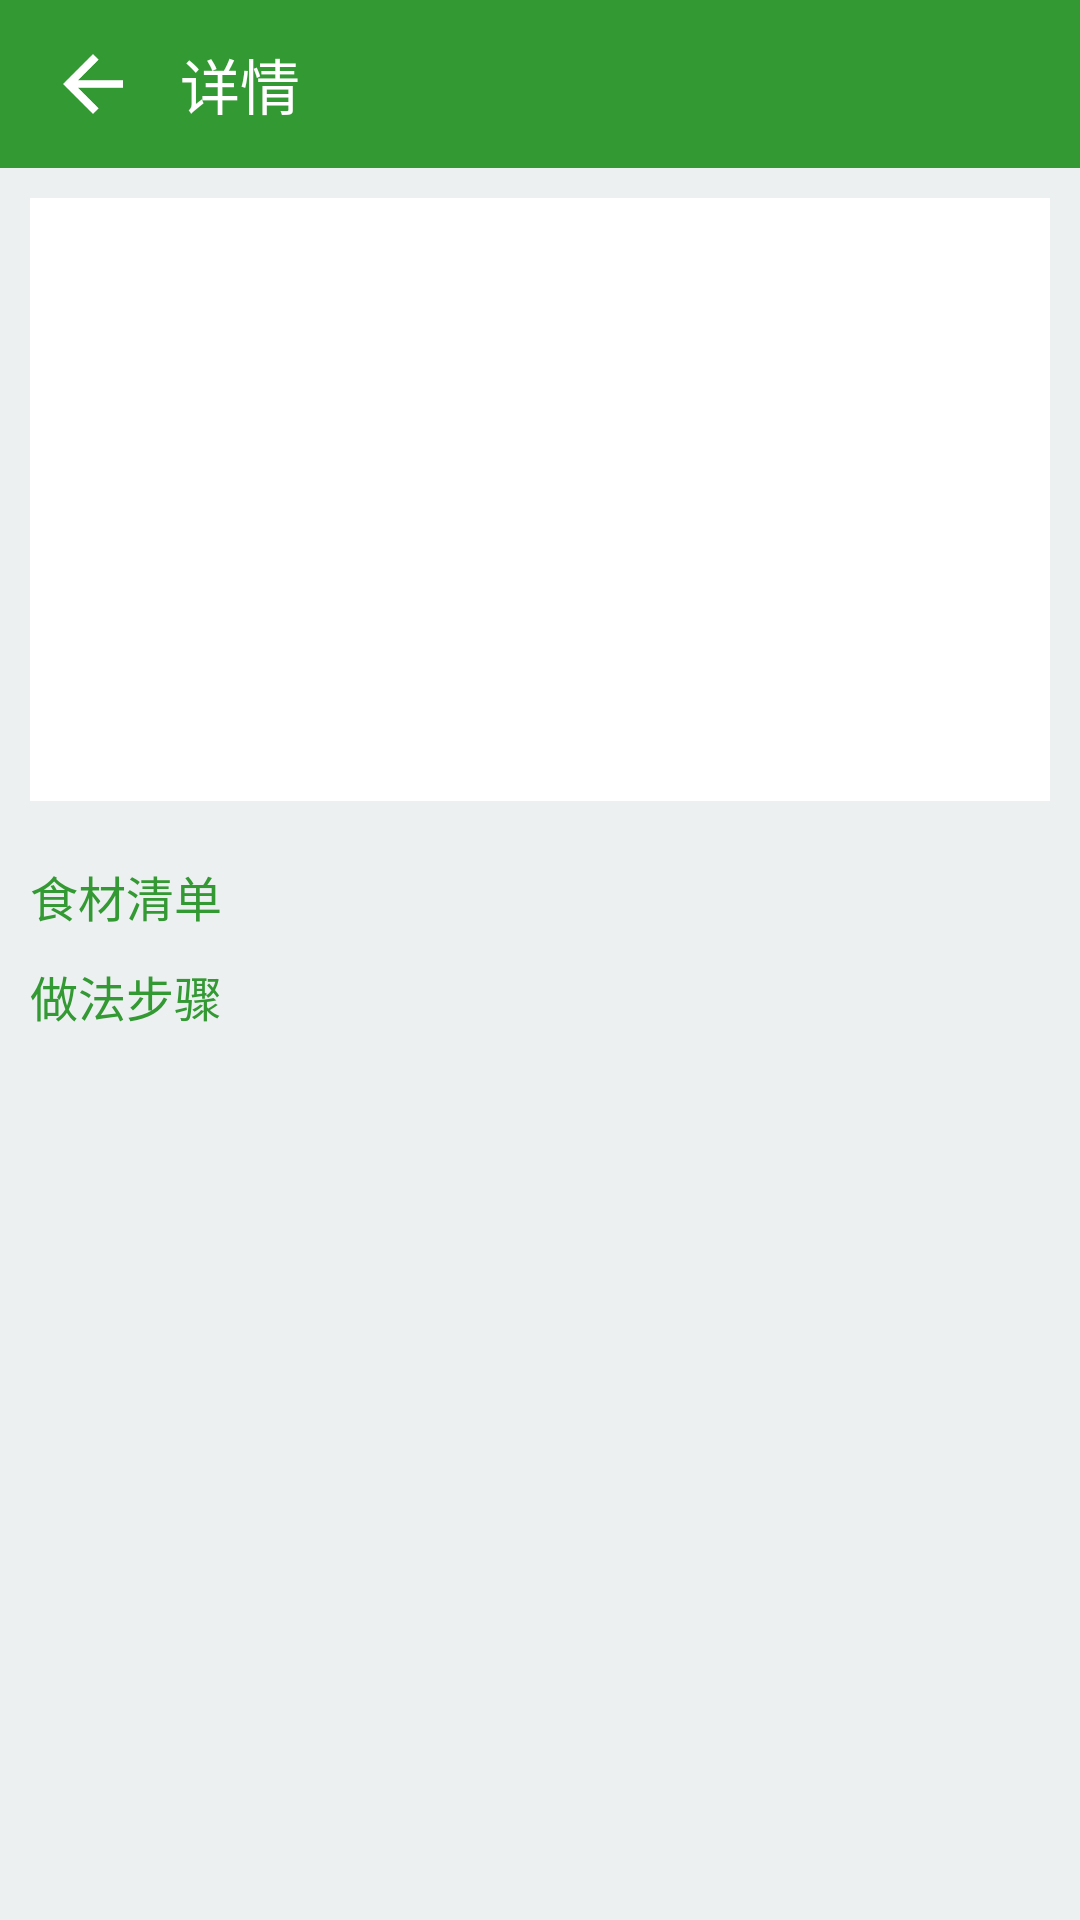

Locate icon controls on the screen. Image size 1080w x 1920h, boxes as detection(x1, y1, x2, y2).
back: detection(63, 54, 123, 114)
